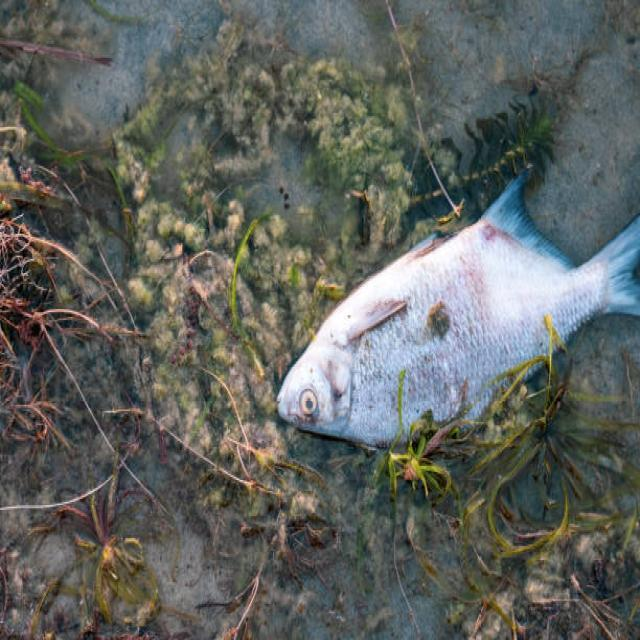EUS Disease: (235, 188, 640, 451)
